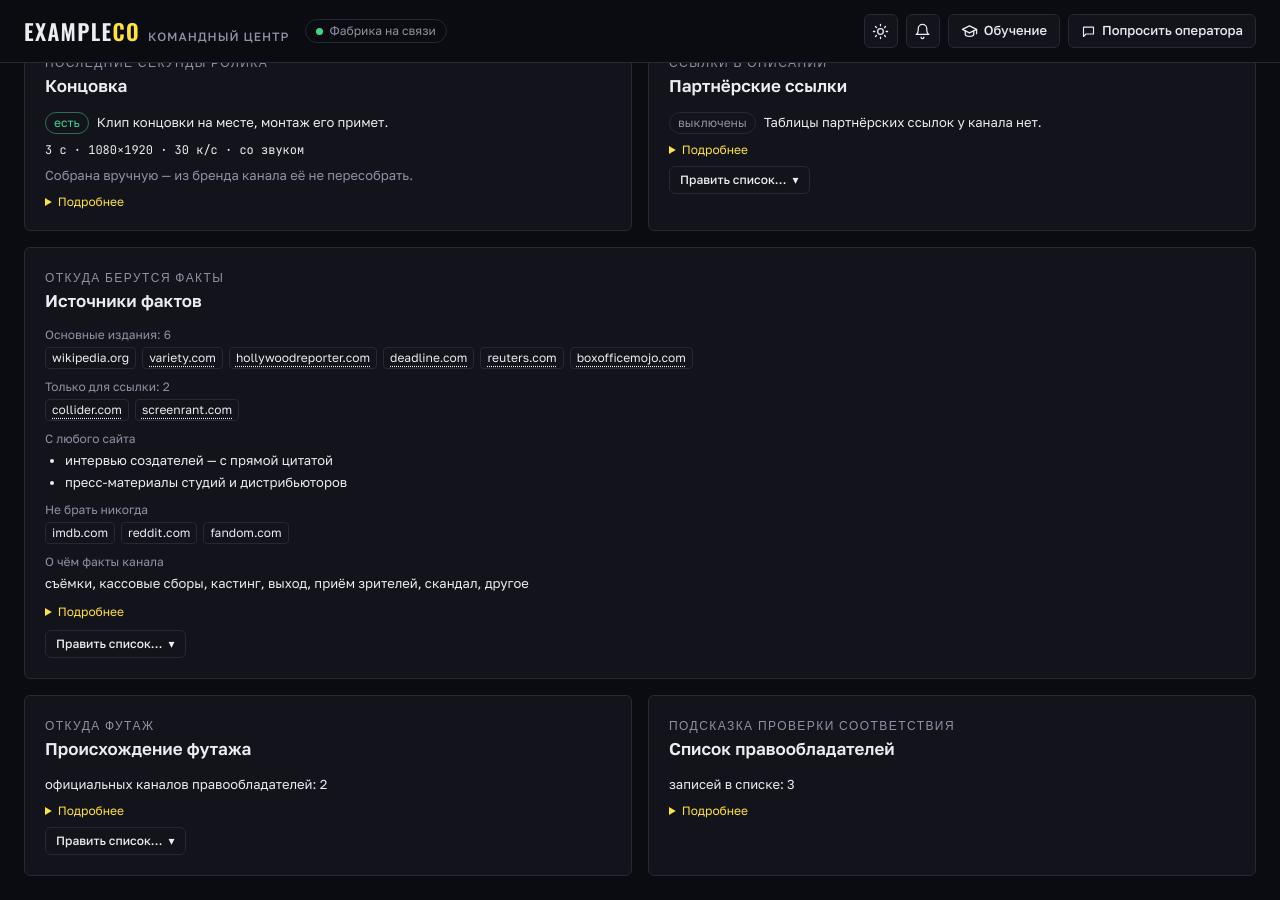
Test: данные канала: правка списков и концовка (CC-0115 шаг 3) › происхождение футажа Reel по строкам: правка канала → план → «да»; чужие поля целы
(page scrolled)
Click the button with test id "list-footage-origin-toggle".
click(115, 840)  # box [45,826,186,854]
(page scrolled)
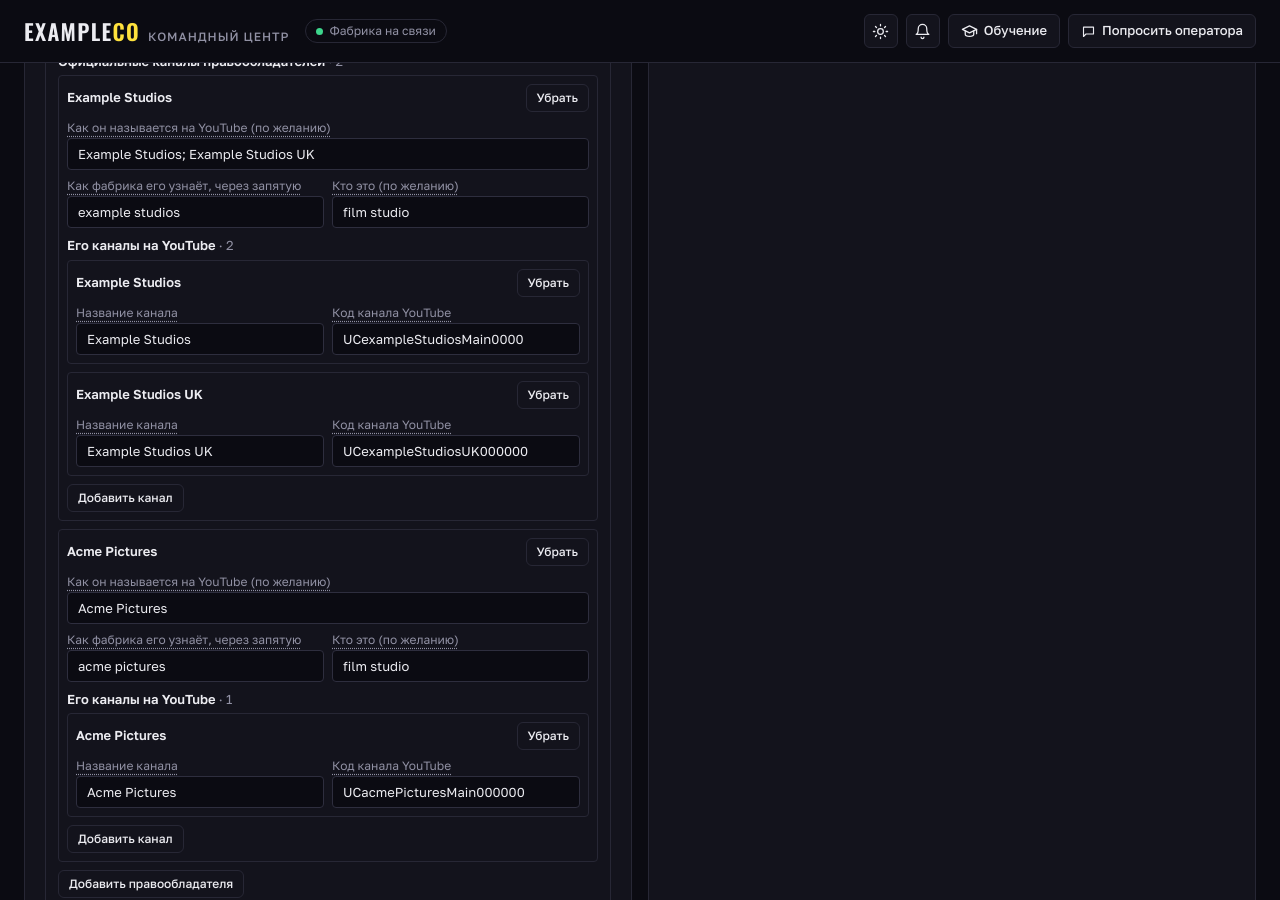
Expected: the number of elements with test id "rows-official-row" is 2, [58,75,598,520]; [58,528,598,862]
Expected: the element with test id "rows-official-row" shows "Example Studios", [67,89,172,105]
Replace the text in the field with test id "rows-yt-title" with "Example Studios Великобритания" at (200, 450), box [76,434,324,466]
(page scrolled)
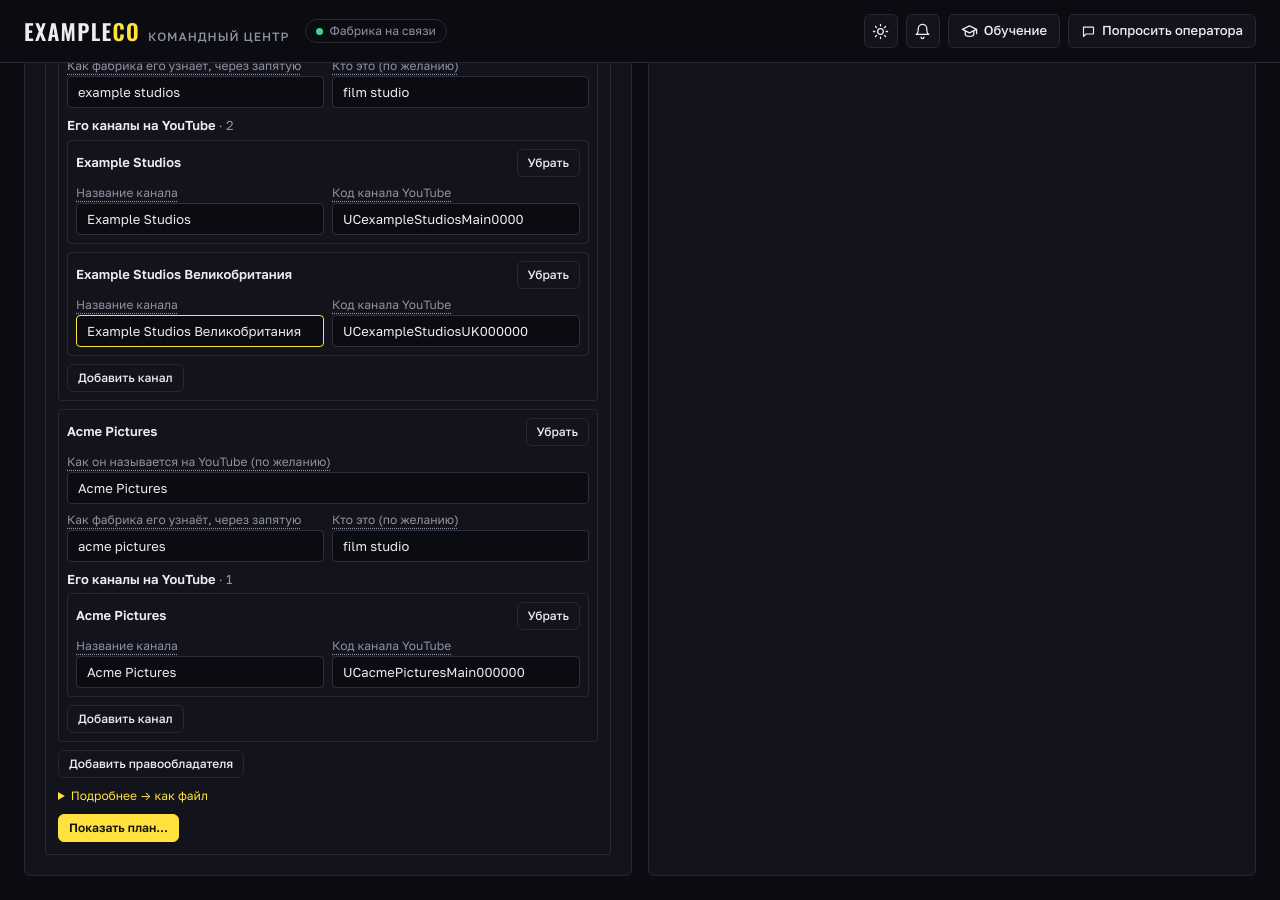
Click the button with test id "list-footage-origin-open".
click(118, 828)  # box [58,814,179,842]
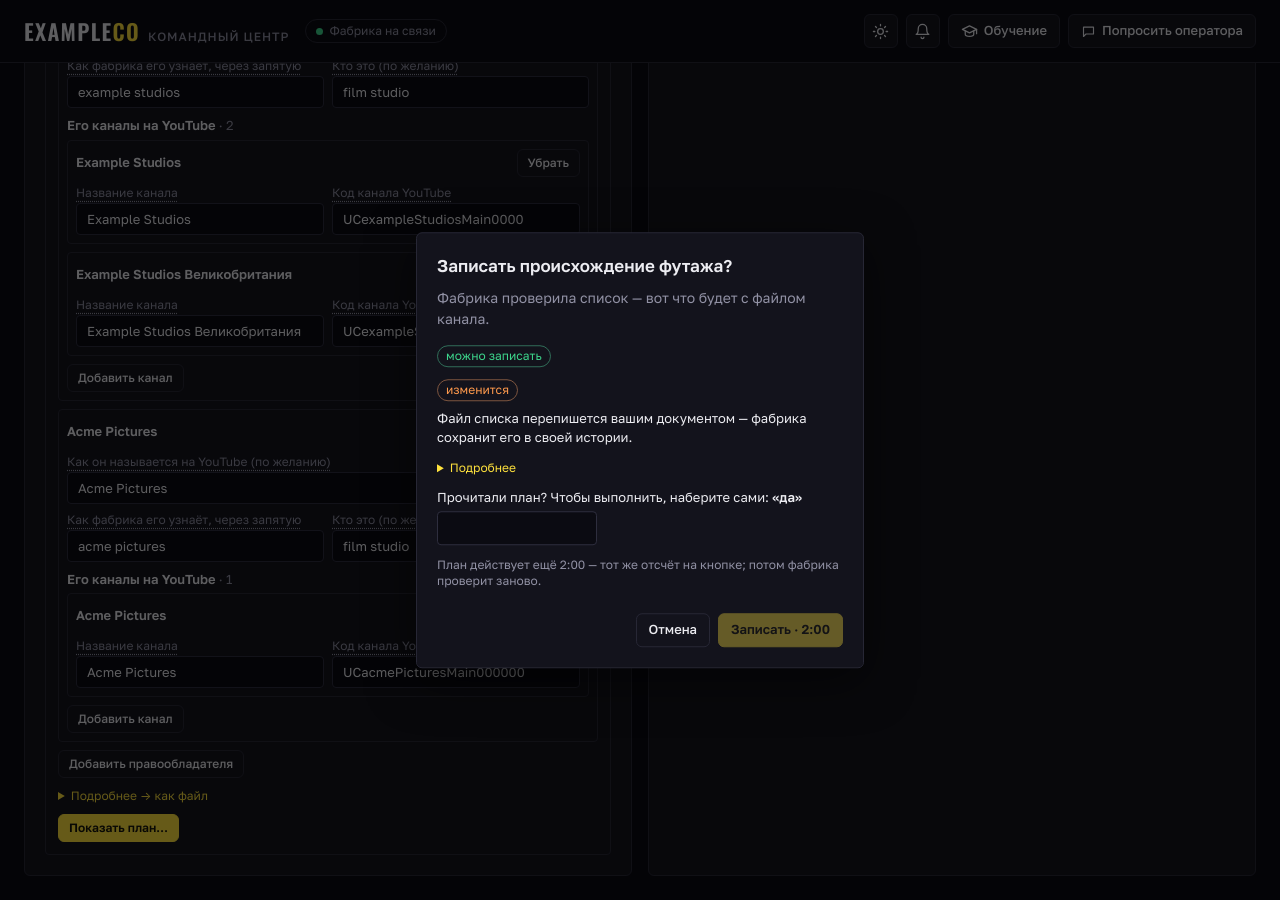
Expected: the element with test id "list-plan-changes" shows "изменится", [446,382,509,397]
Type "да" into the field with test id "list-footage-origin-yes".
click(517, 528); type("да")  # box [437,511,597,545]
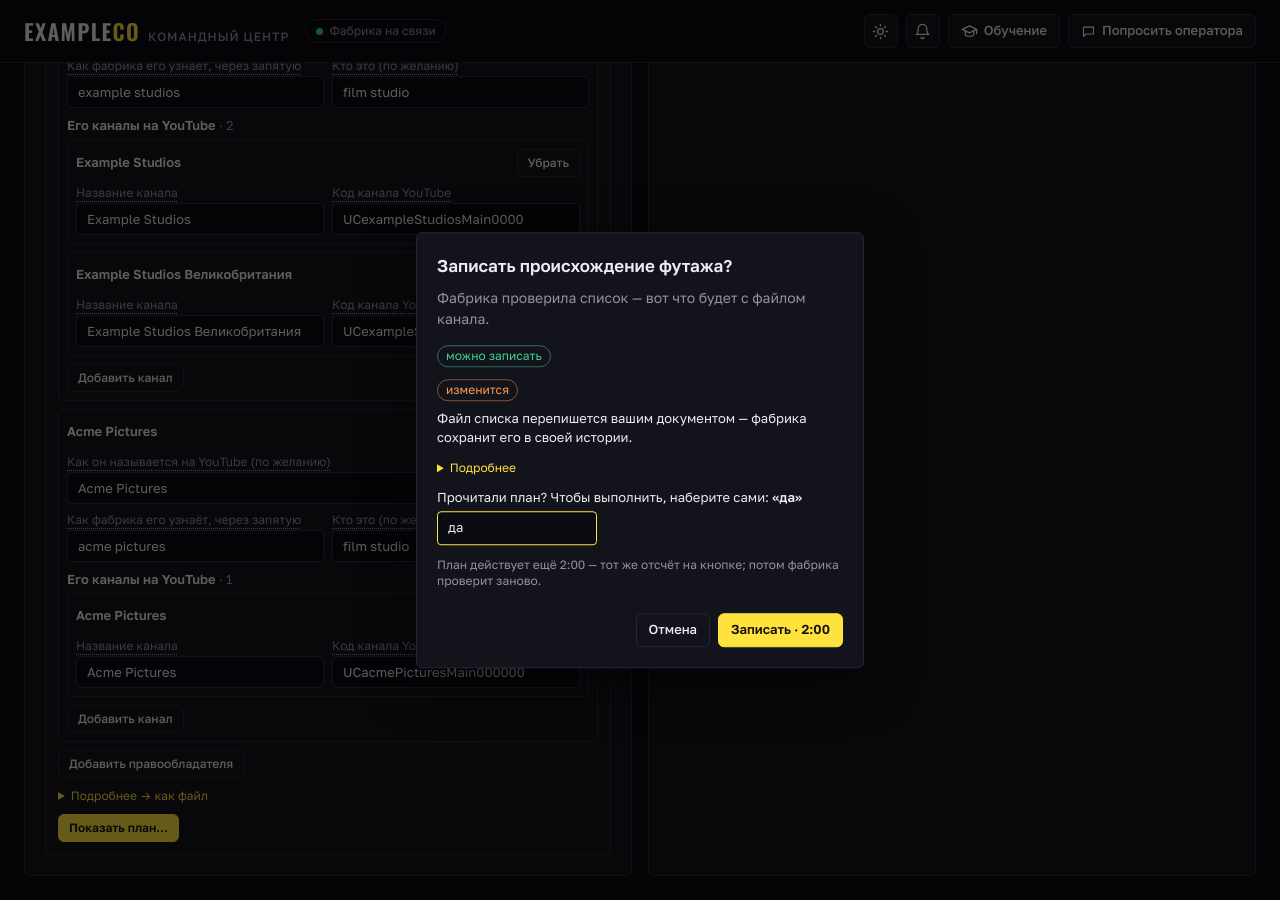
Click the button with test id "list-footage-origin-confirm".
click(780, 630)  # box [718,613,843,647]
(page scrolled)
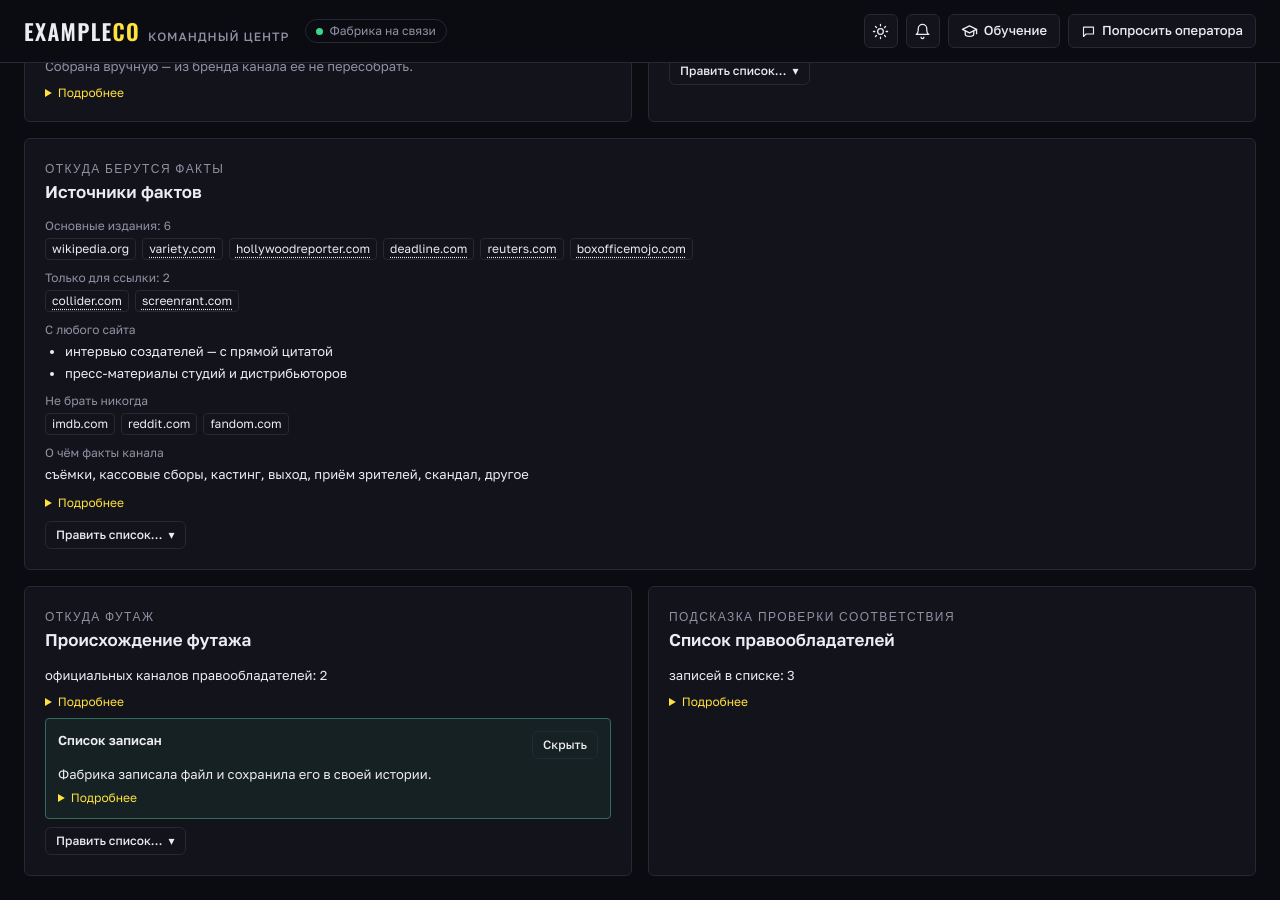
Expected: the message with test id "list-done" shows "Список записан", [58,732,162,748]
